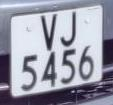4: (39, 49, 62, 93)
5: (17, 50, 42, 96), (59, 47, 79, 90)
6: (77, 43, 97, 87)
J: (58, 8, 80, 51)
V: (37, 12, 62, 53)
